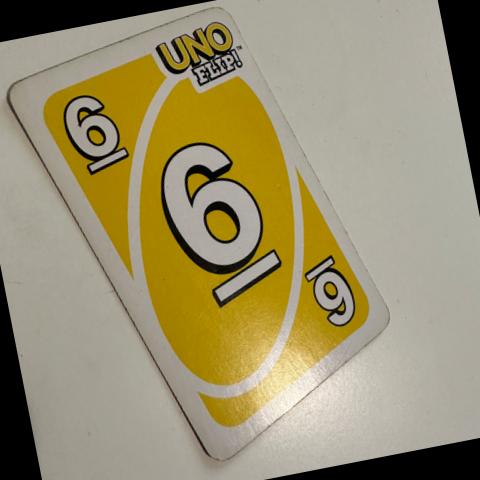lyellow-6: (47, 65, 153, 190)
